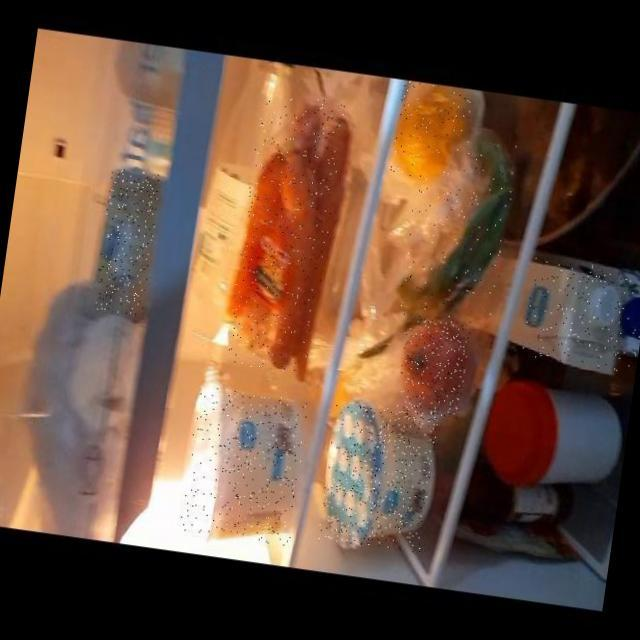Limón: (389, 78, 475, 192)
Mantequilla: (93, 167, 162, 315)
Yogur: (180, 386, 310, 546), (318, 400, 439, 552)
Zanahoria: (226, 92, 347, 375)
green chilies: (398, 131, 519, 328)
milk: (521, 254, 640, 373)
tomato paste: (396, 316, 472, 418)
